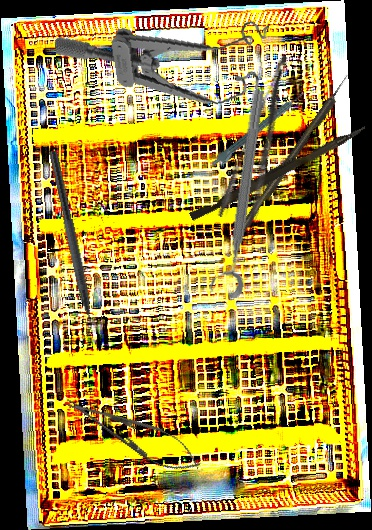Chopper: (36, 150, 102, 346)
Dressing Forceps: (214, 53, 317, 230)
Fixation Ring: (206, 87, 271, 299)
Handpiece: (210, 89, 309, 172)
Hook Surgical: (236, 73, 353, 235)
Needle Holder: (58, 385, 208, 482)
Pusher: (188, 118, 368, 226)
Speculum: (54, 4, 280, 131)
